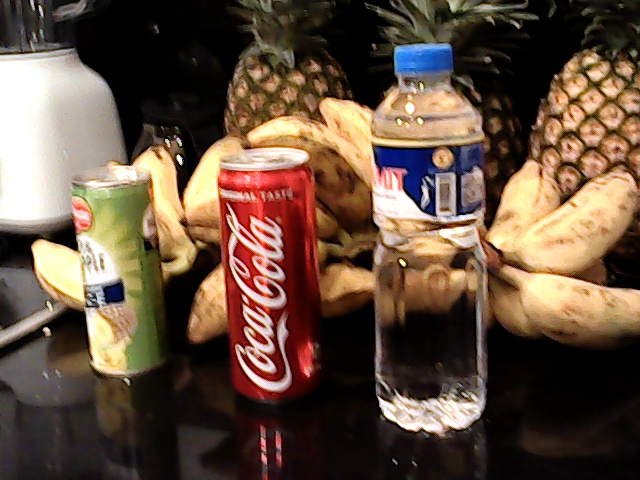Cola: (210, 155, 335, 397)
Pine Juice: (65, 163, 166, 374)
Summit Water: (370, 42, 488, 420)
